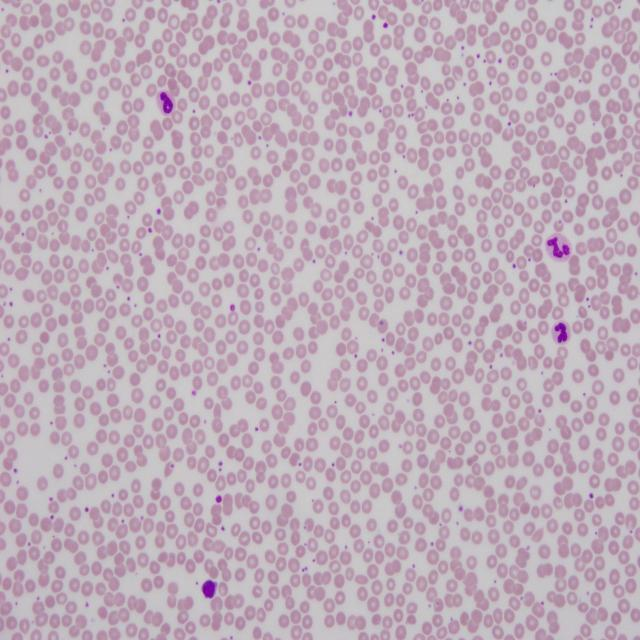cell: (546, 233, 571, 261), (551, 320, 570, 344)
